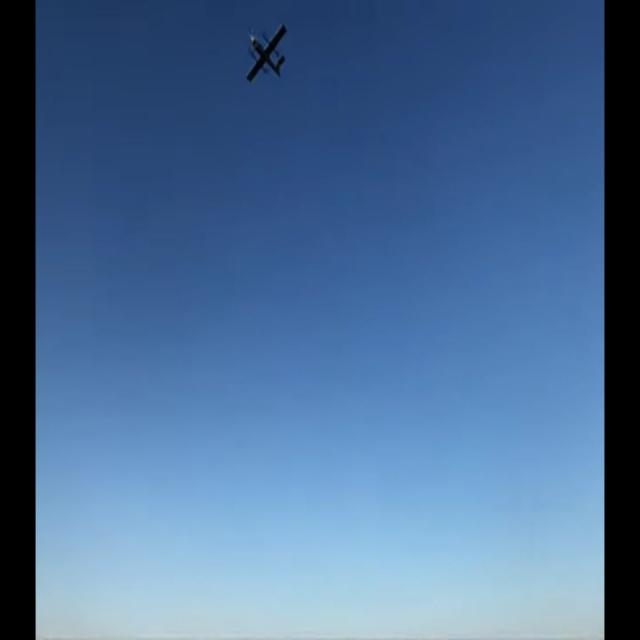iha: (239, 22, 281, 85)
